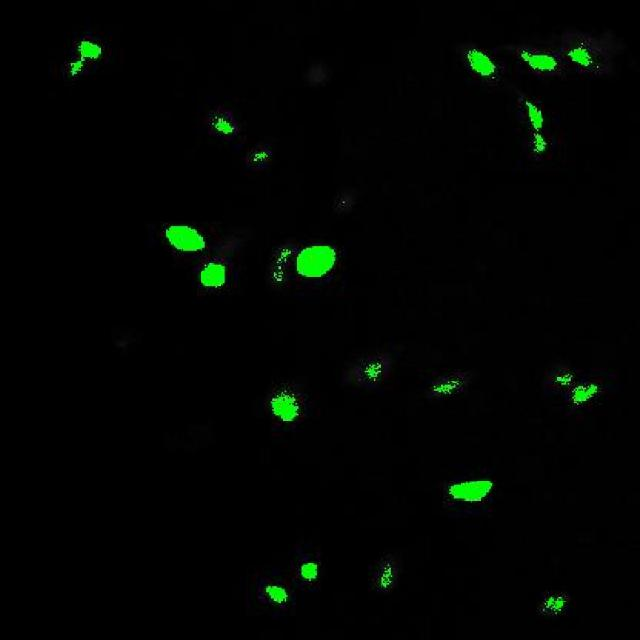Cell: (167, 223, 204, 249), (466, 47, 493, 76), (453, 480, 491, 500), (200, 261, 225, 290), (274, 393, 298, 422), (527, 52, 555, 71), (267, 586, 290, 605), (80, 40, 100, 59), (302, 563, 318, 580)
